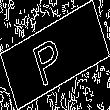P_NW: (36, 25, 74, 85)
